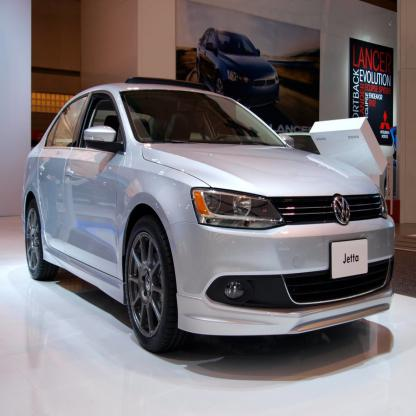Car: (22, 77, 396, 352), (196, 28, 280, 110)
